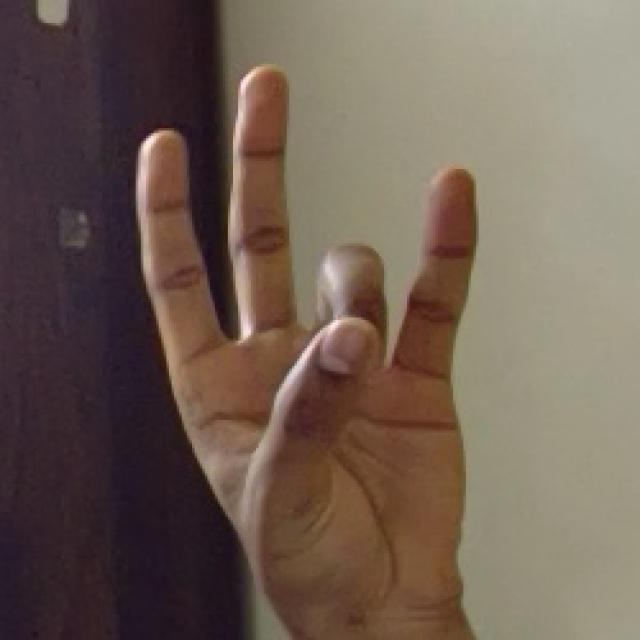Numeric-7: (140, 58, 490, 615)
